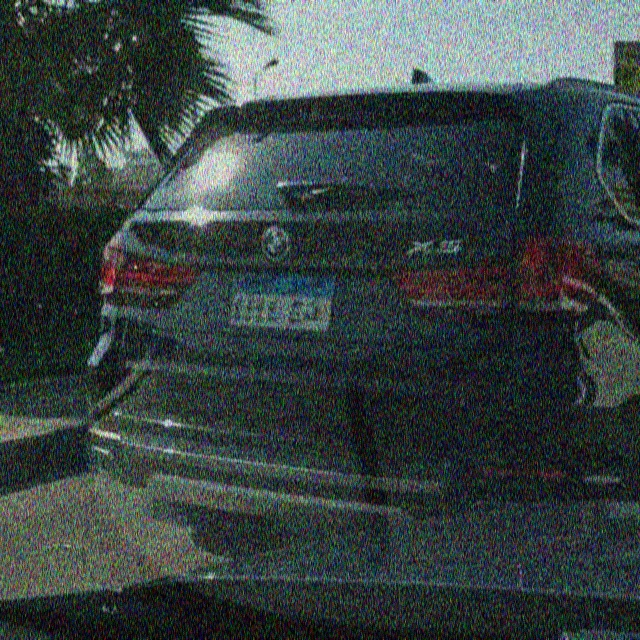License Plate: (226, 271, 339, 334)
